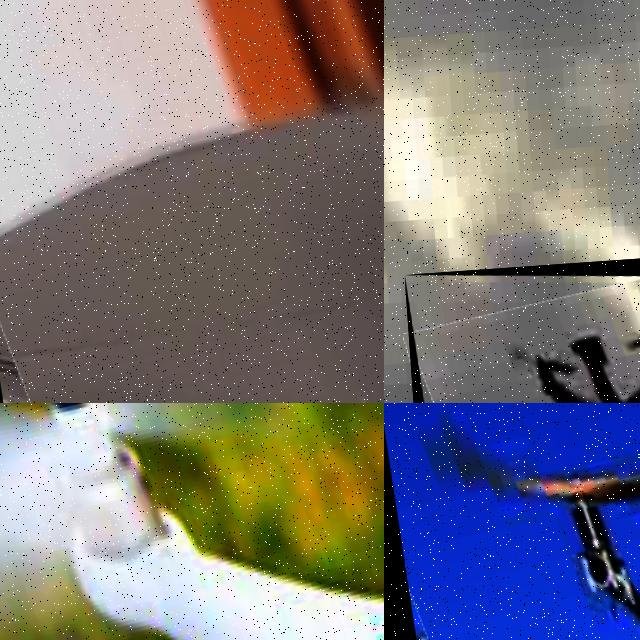drone: (0, 0, 384, 403), (0, 403, 384, 640), (384, 403, 640, 640), (404, 250, 640, 403)
